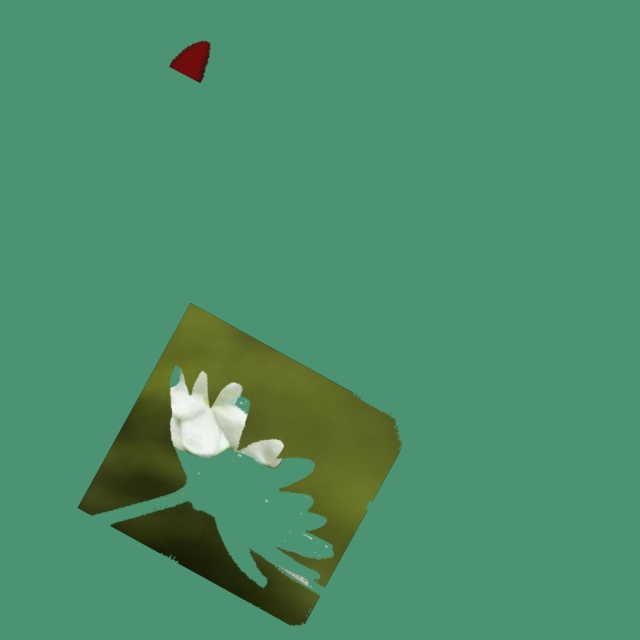daisy: (78, 303, 401, 625)
jasmine: (140, 315, 285, 467)
rose: (169, 41, 209, 82)
